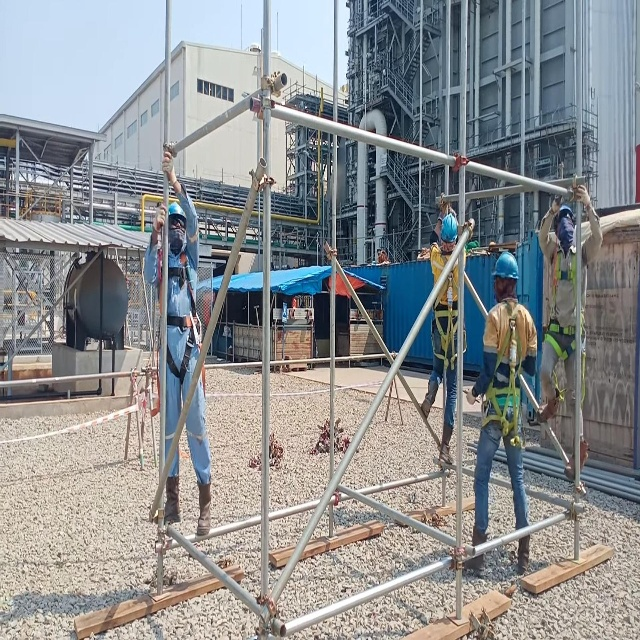Arnes_seguridad: (477, 294, 528, 451), (155, 248, 204, 389), (541, 244, 588, 373), (426, 238, 466, 370)
